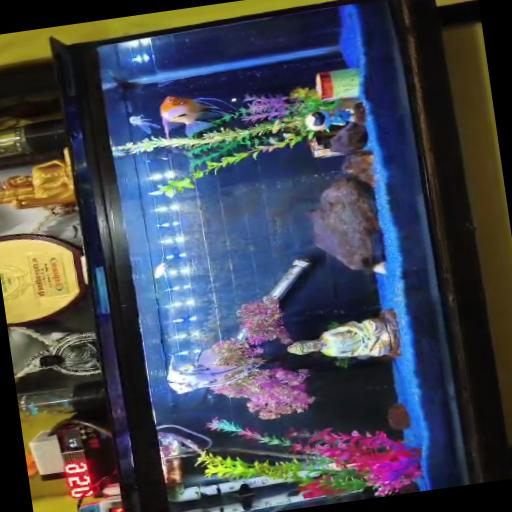Fish: (168, 349, 260, 393), (161, 96, 237, 138), (129, 115, 159, 133), (155, 263, 169, 278)
